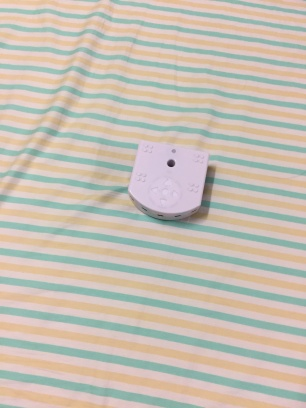thymio: (120, 136, 213, 222)
